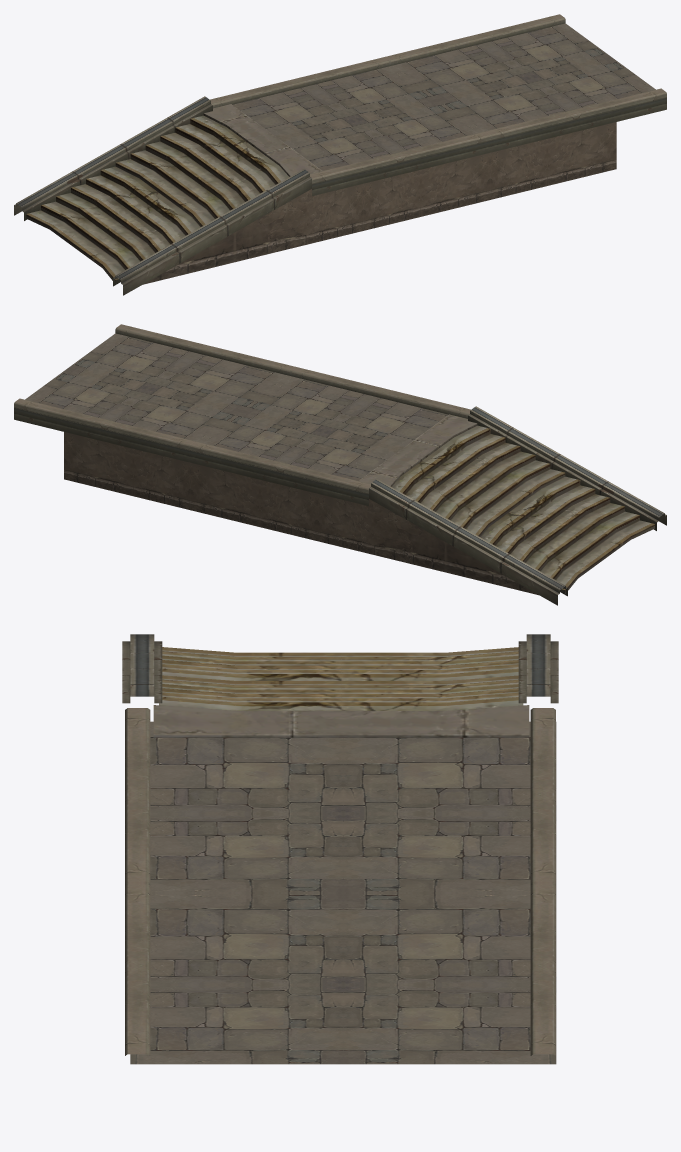
File: blsd_louti_004.FBX
3 renders of one model, top to bottom at view 1: azimuth 30°, elevation 25°; view 2: azimuth 150°, elevation 25°; view 3: azimuth 270°, elevation 25°, orthographic. The views are drawn at different scales.
Visible parts, largest first — view 1: blsd_louti_004; view 2: blsd_louti_004; view 3: blsd_louti_004.
Boxes of the visible parts, x1,y1,x2,y2 form: blsd_louti_004: [14, 14, 666, 295]; blsd_louti_004: [14, 324, 666, 605]; blsd_louti_004: [122, 634, 558, 1064].
Size of the model in its own units: 2498 by 867 by 329.
